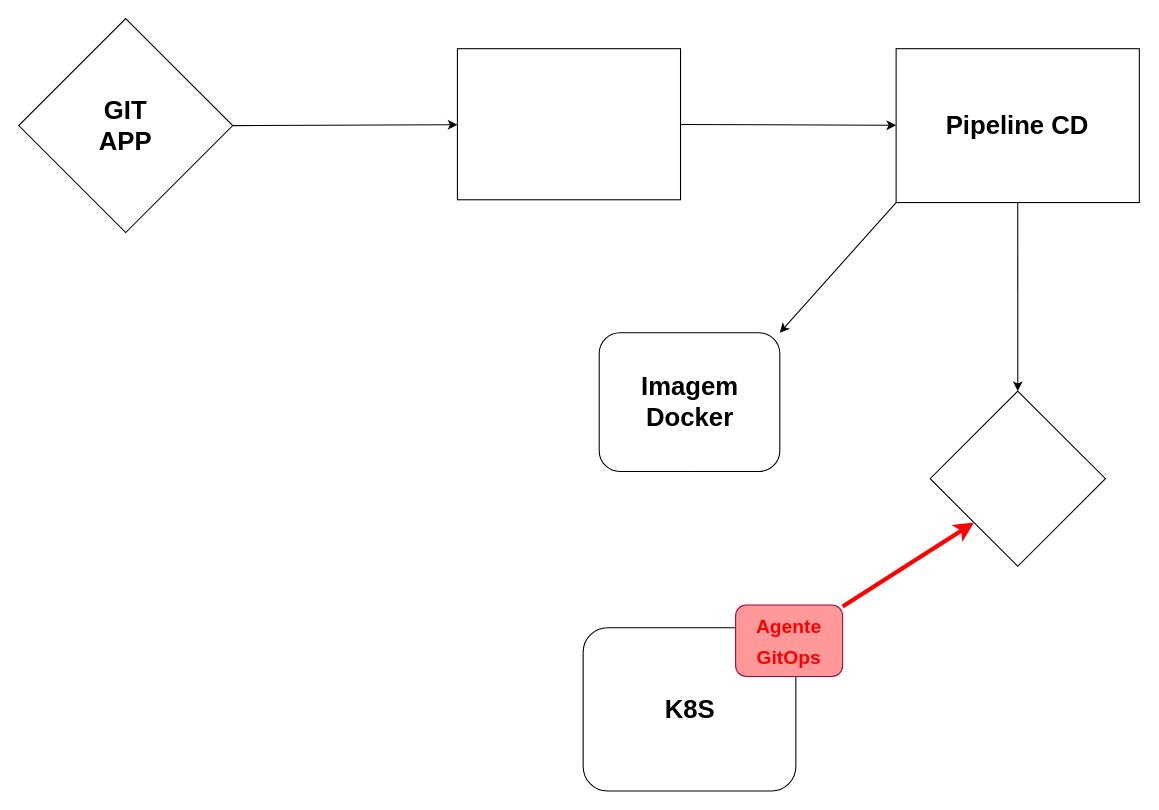
This 1159x810 diagram has some shape labels left out. Here are the shapes that lost their labels. From the top down, the box of each, then its label:
(456, 48, 681, 200): Pipeline CI
(929, 390, 1105, 566): GIT .YAML
